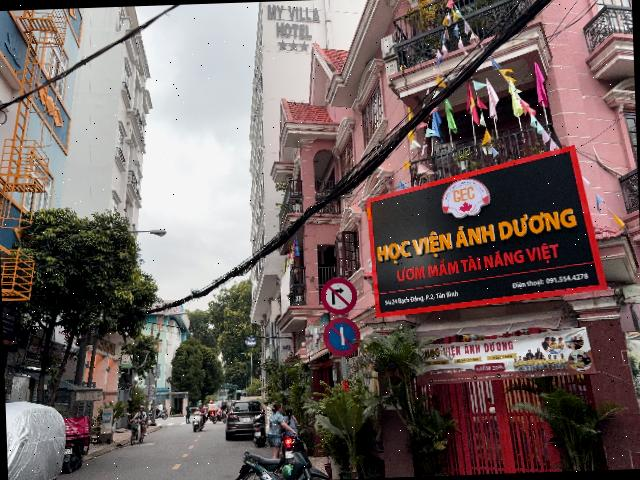cam-do-xe-ngay-le: (322, 316, 362, 358)
cam-re-phai: (320, 278, 358, 316)
